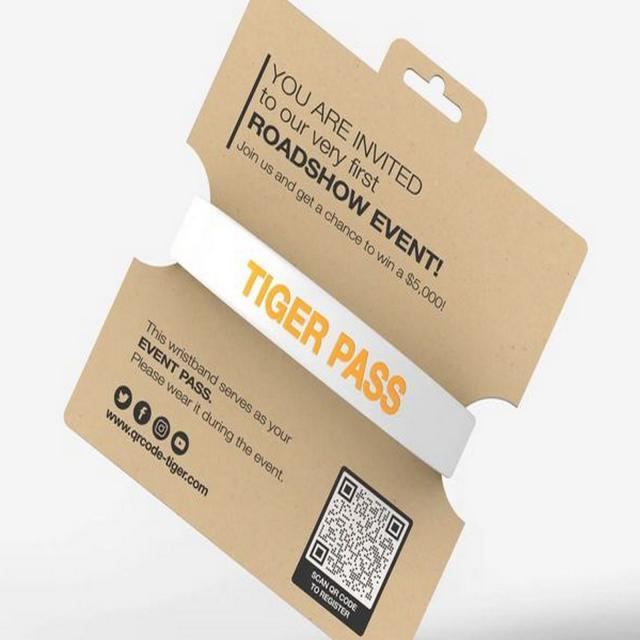qr_code: (309, 476, 406, 605)
